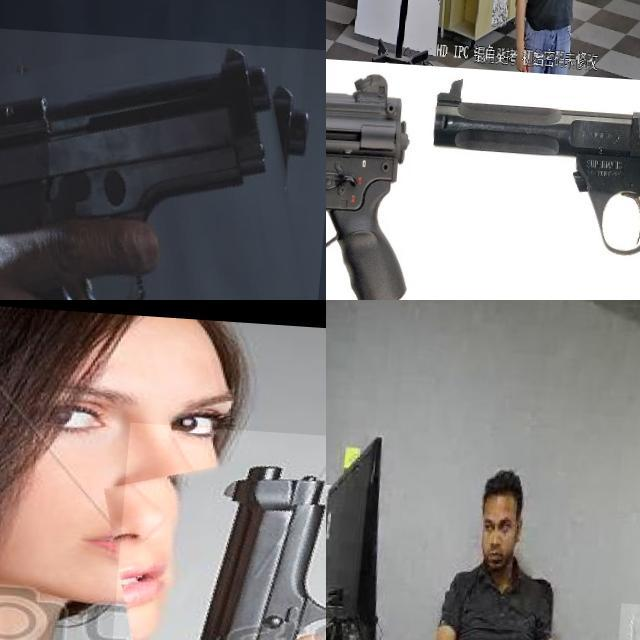-: (623, 598, 640, 640)
gun-knife-thesis - v11 Yolov5 augmented: (0, 22, 326, 300), (420, 65, 640, 300), (106, 419, 326, 640), (326, 46, 470, 300), (326, 0, 346, 29)
